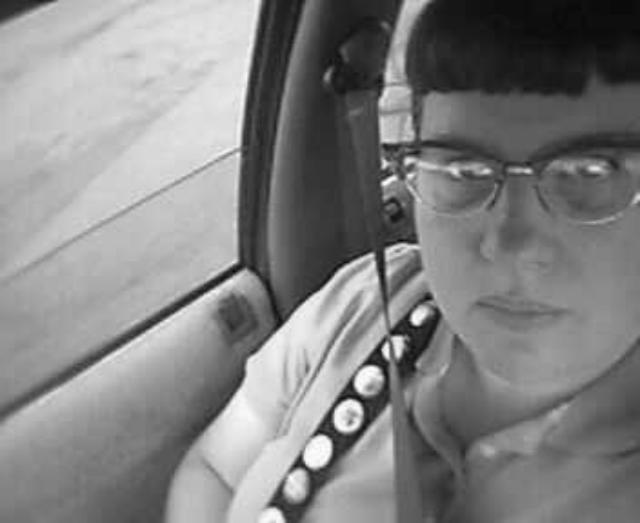SafeDriving: (542, 150, 633, 194), (424, 152, 500, 192)
Seatbelt: (337, 18, 429, 523)
